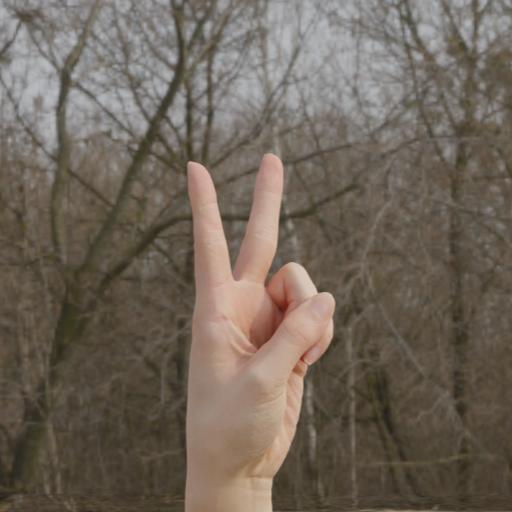V: (158, 134, 352, 512)
